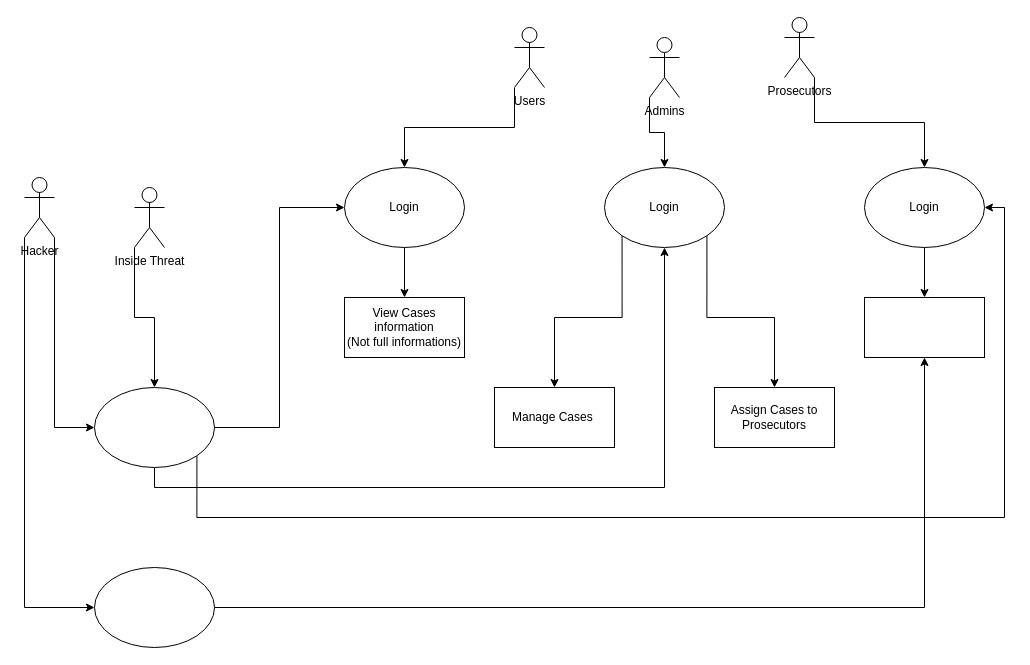
Some shapes in this 1030 by 665 pixel diagram are drawn without their labels. Here are the shapes that lost their labels. From the top down, the centre of each, then its label:
the point at 924,327: View Update and alter assigned cases
the point at 154,427: unauthorized access
the point at 154,607: Data Breach
